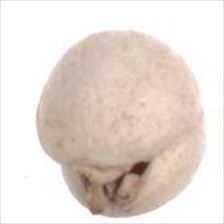L3: (67, 159, 152, 211)
L4: (36, 31, 203, 217)
